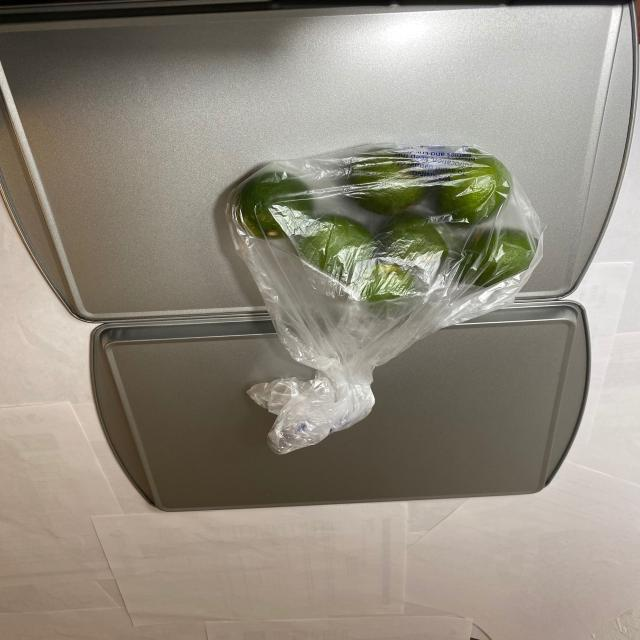lemon: (232, 151, 538, 306)
